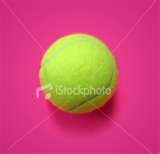tennis ball: (38, 33, 118, 113)
